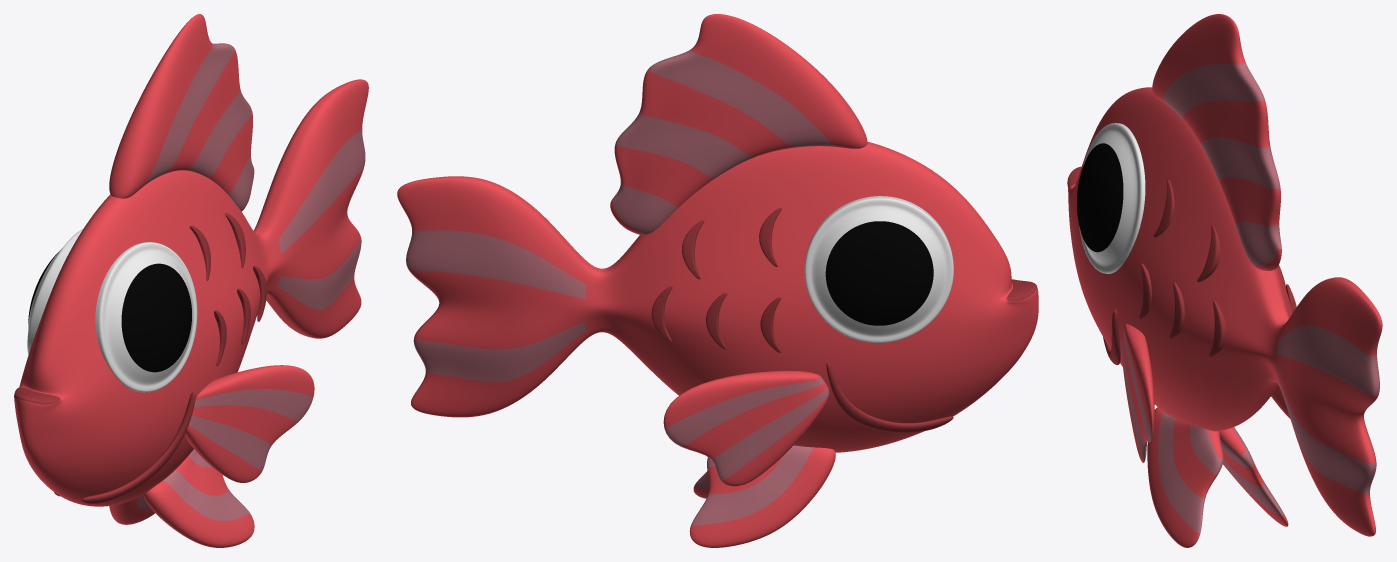
The model's file is Fish.glb.
3 renders of one model, left to right at view 1: azimuth 30°, elevation 25°; view 2: azimuth 150°, elevation 25°; view 3: azimuth 270°, elevation 25°, orthographic.
Parts seen in each view (by area): view 1: Cube, Cube.004, Cylinder, Plane, Cube.005, Cylinder.001, Plane.012, Cube.006, Plane.011; view 2: Cube, Cube.004, Cylinder.001, Plane.006, Cube.006, Plane.018; view 3: Cube, Cube.004, Cylinder, Cube.005, Plane, Cube.006, Plane.011, Plane.010, Plane.012, Plane.007, Plane.008, Plane.009.
Boxes of the visible parts, bbox=[...] form: Cube: bbox=[14, 79, 368, 506]; Cube.004: bbox=[109, 14, 254, 211]; Cylinder: bbox=[95, 242, 197, 392]; Plane: bbox=[185, 365, 314, 482]; Cube.005: bbox=[143, 449, 254, 547]; Cylinder.001: bbox=[27, 229, 82, 354]; Plane.012: bbox=[82, 391, 195, 504]; Cube.006: bbox=[109, 495, 154, 524]; Plane.011: bbox=[224, 213, 245, 268]; Cube: bbox=[397, 142, 1038, 452]; Cube.004: bbox=[610, 14, 867, 235]; Cylinder.001: bbox=[804, 196, 953, 342]; Plane.006: bbox=[663, 370, 829, 486]; Cube.006: bbox=[689, 445, 835, 547]; Plane.018: bbox=[826, 362, 953, 432]; Cube: bbox=[1067, 87, 1382, 536]; Cube.004: bbox=[1152, 14, 1281, 270]; Cylinder: bbox=[1077, 123, 1145, 273]; Cube.005: bbox=[1147, 407, 1223, 547]; Plane: bbox=[1122, 323, 1154, 462]; Cube.006: bbox=[1219, 427, 1288, 526]; Plane.011: bbox=[1197, 225, 1220, 282]; Plane.010: bbox=[1209, 300, 1226, 356]; Plane.012: bbox=[1103, 309, 1120, 364]; Plane.007: bbox=[1169, 282, 1184, 338]; Plane.008: bbox=[1153, 180, 1174, 237]; Plane.009: bbox=[1139, 263, 1151, 319].
Bounding box in the file's own units: 5.33 × 5.27 × 2.92.
